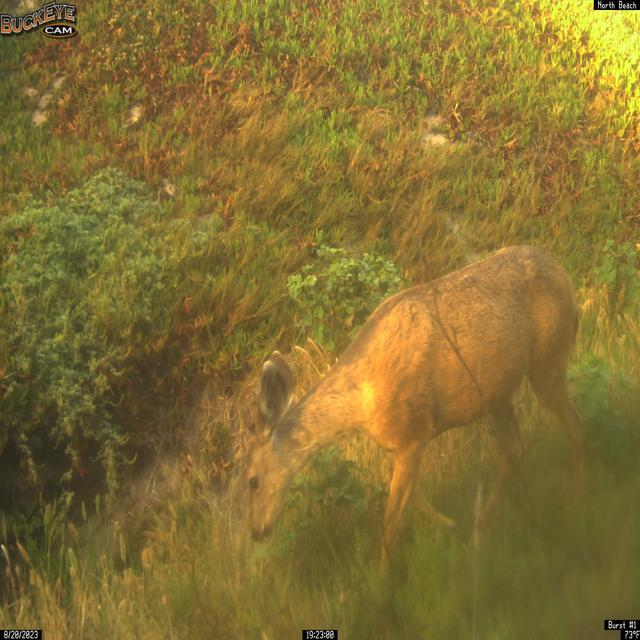deer: (245, 243, 590, 587)
